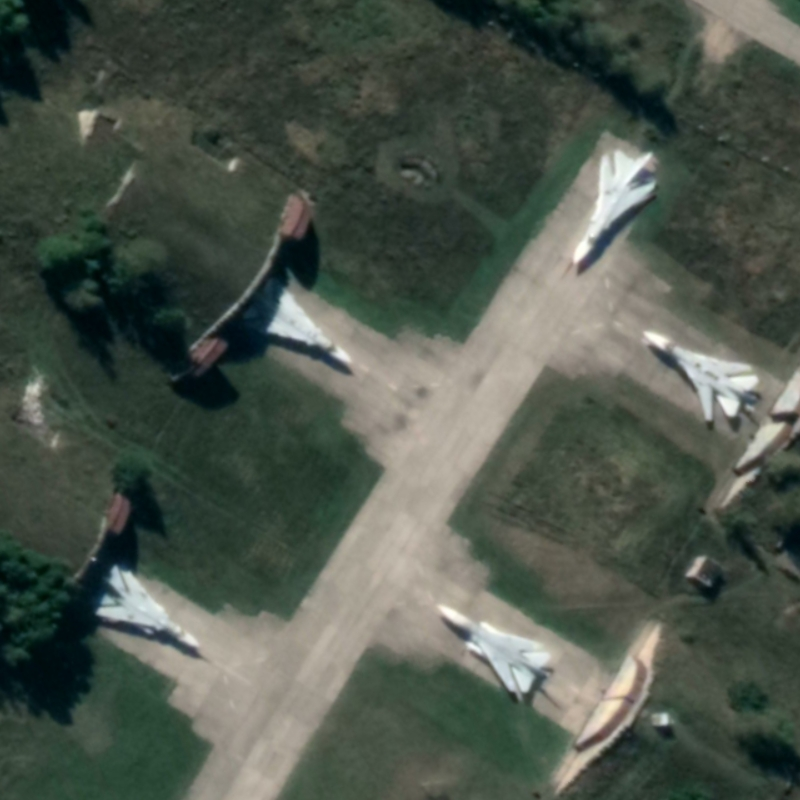A20: (640, 327, 762, 425), (435, 601, 554, 697), (240, 275, 357, 368), (85, 562, 205, 652), (570, 146, 659, 267)
